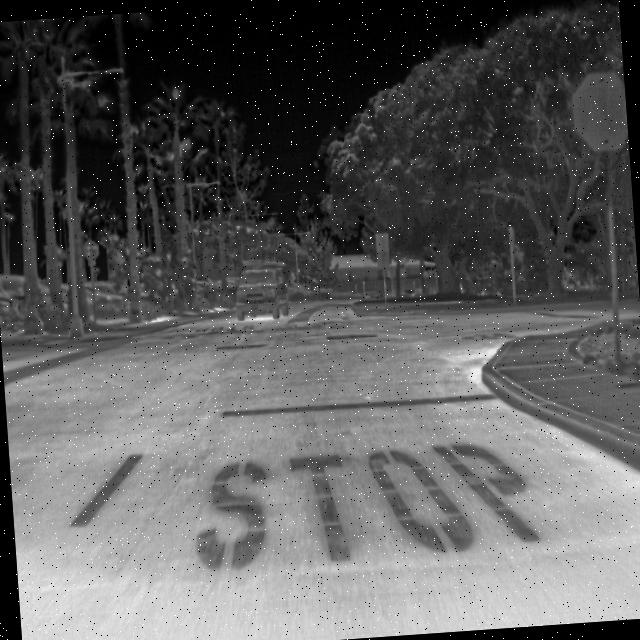Vehicle: (231, 264, 292, 324)
